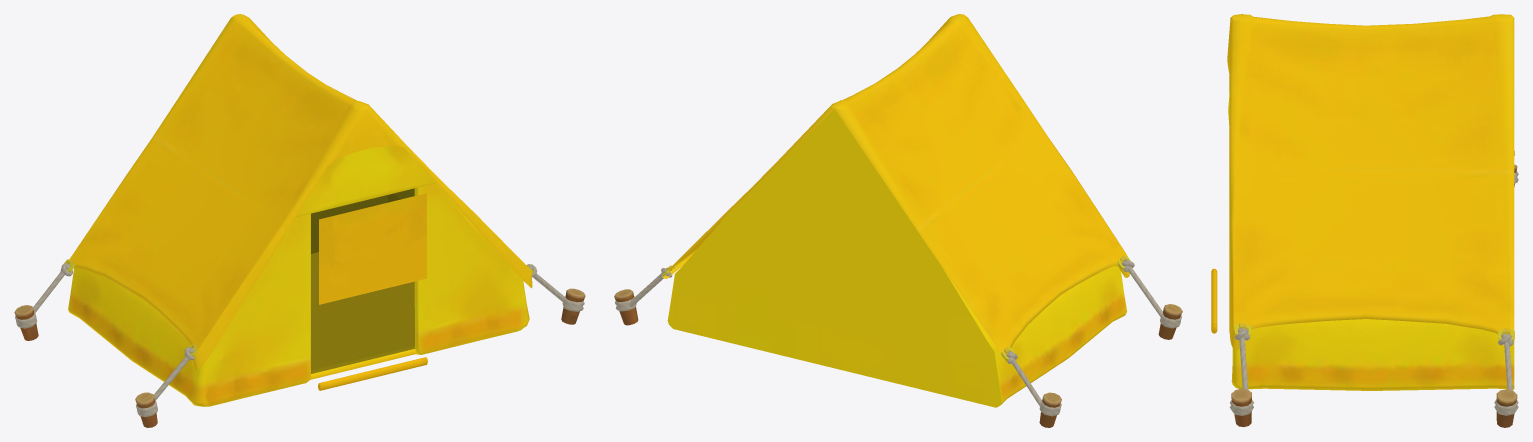
Rendered from tent-p.glb.
The picture shows the model from 3 angles, left to right: view 1: azimuth 30°, elevation 25°; view 2: azimuth 150°, elevation 25°; view 3: azimuth 270°, elevation 25°; orthographic projection. The views are drawn at different scales.
Size of the model in its own units: 41.52 by 24.07 by 22.56.
Materials: 2 (2 with a texture image).
